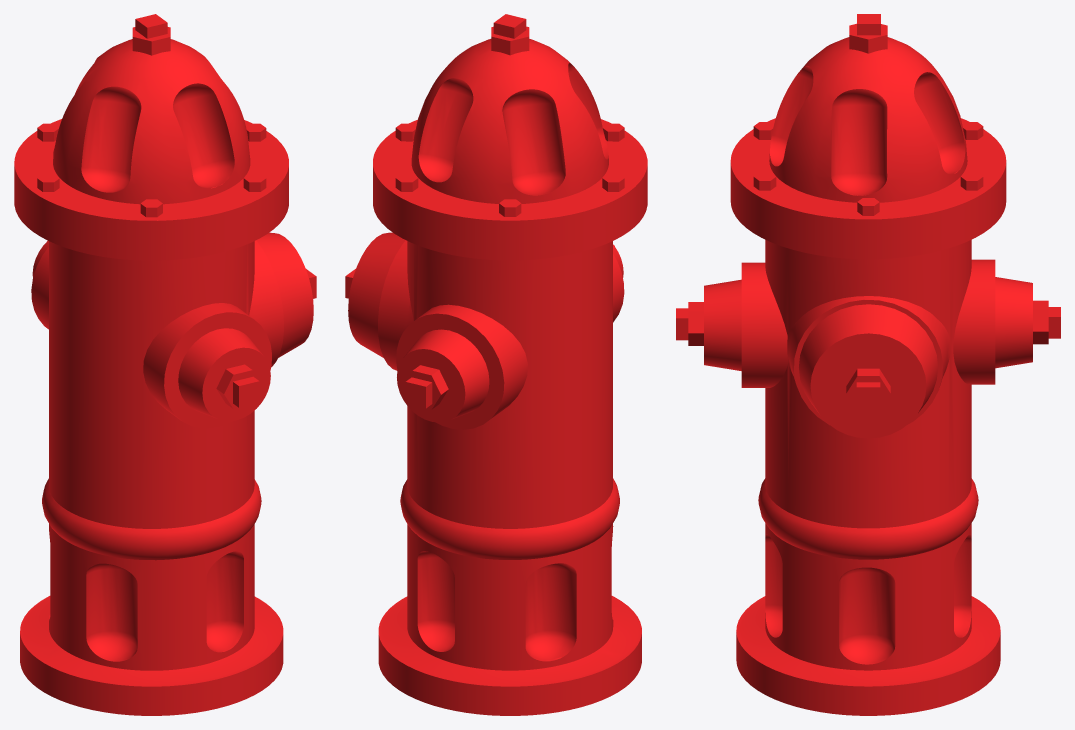
File: Fire_hydrant.dae
The picture shows the model from 3 angles, left to right: view 1: azimuth 30°, elevation 25°; view 2: azimuth 150°, elevation 25°; view 3: azimuth 270°, elevation 25°; orthographic projection.
Parts seen in each view (by area): view 1: Obj_000001; view 2: Obj_000001; view 3: Obj_000001.
Part boxes in pixels (<box>): Obj_000001: <box>14,14,316,715</box>; Obj_000001: <box>345,14,647,715</box>; Obj_000001: <box>676,14,1060,715</box>.
Size of the model in its own units: 14.61 by 17.47 by 32.12.
